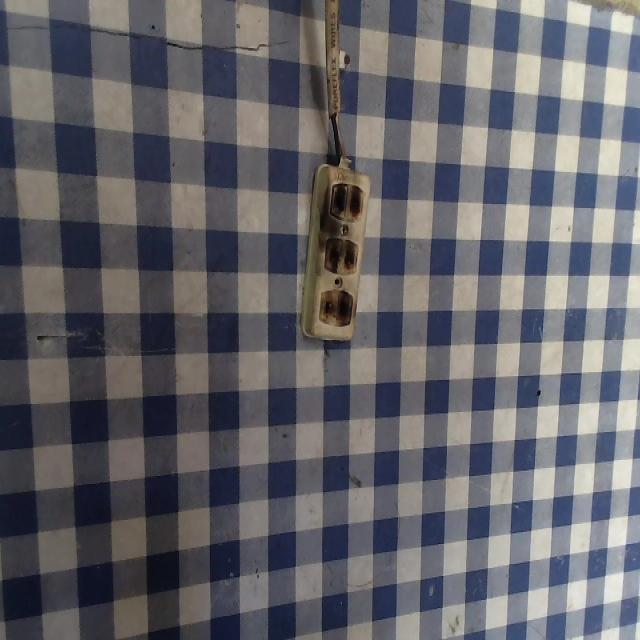-: (319, 173, 368, 224), (317, 227, 364, 277), (318, 283, 359, 333)
